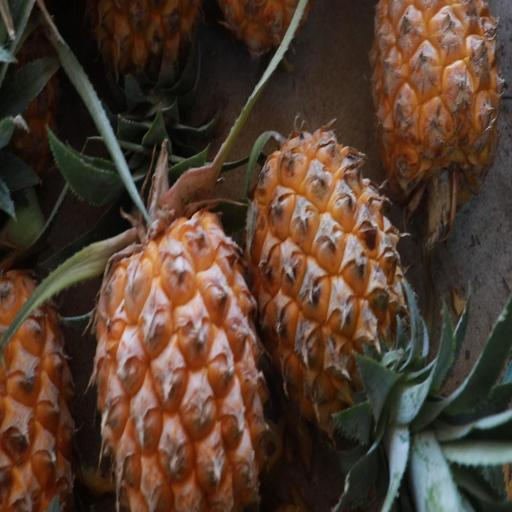Pineapple - v8 v1: (91, 115, 271, 512), (248, 116, 413, 446), (368, 0, 509, 239), (0, 197, 84, 511)
